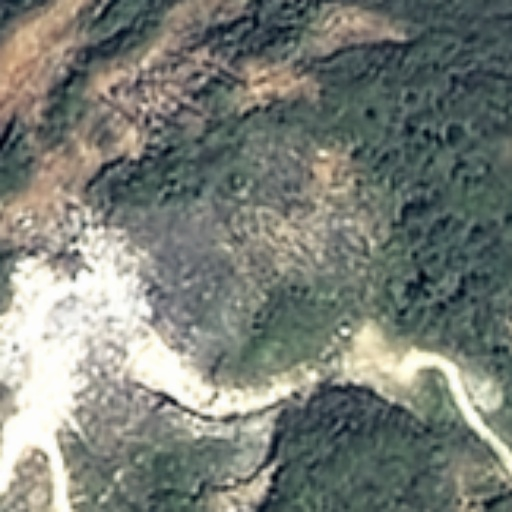landslide: (4, 3, 402, 285)
